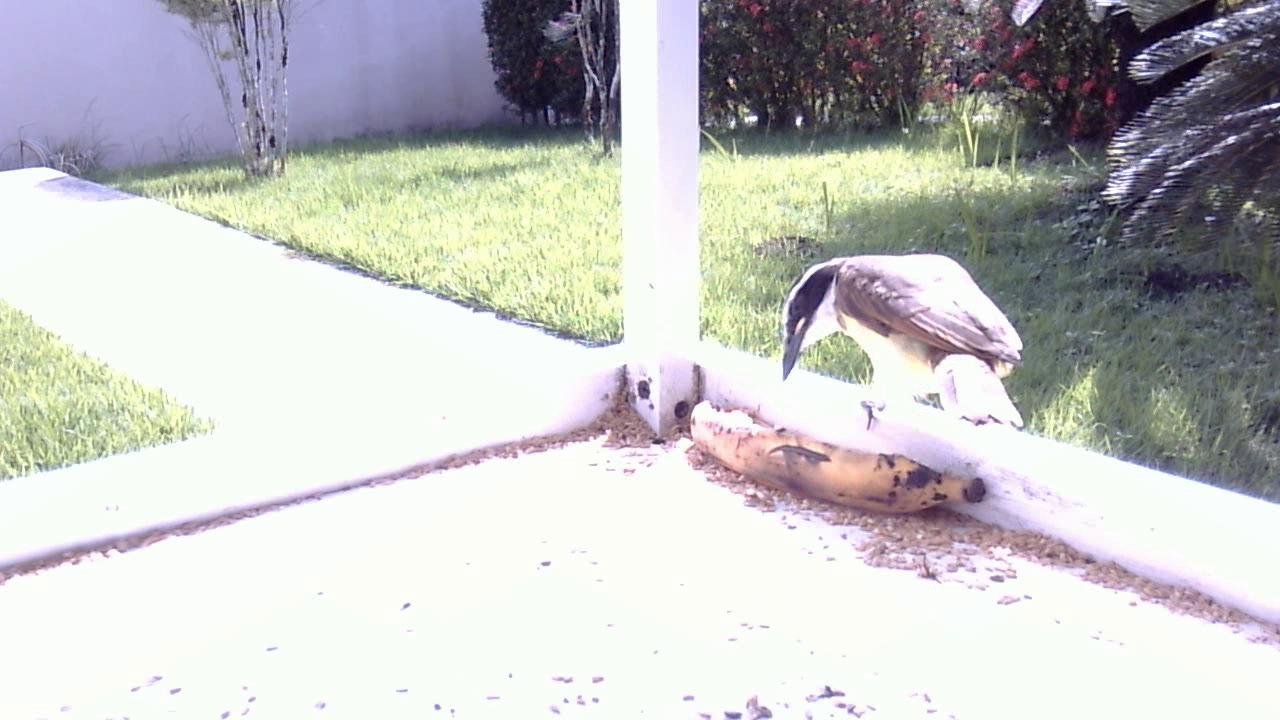bem_te_vi: (767, 238, 1032, 462)
